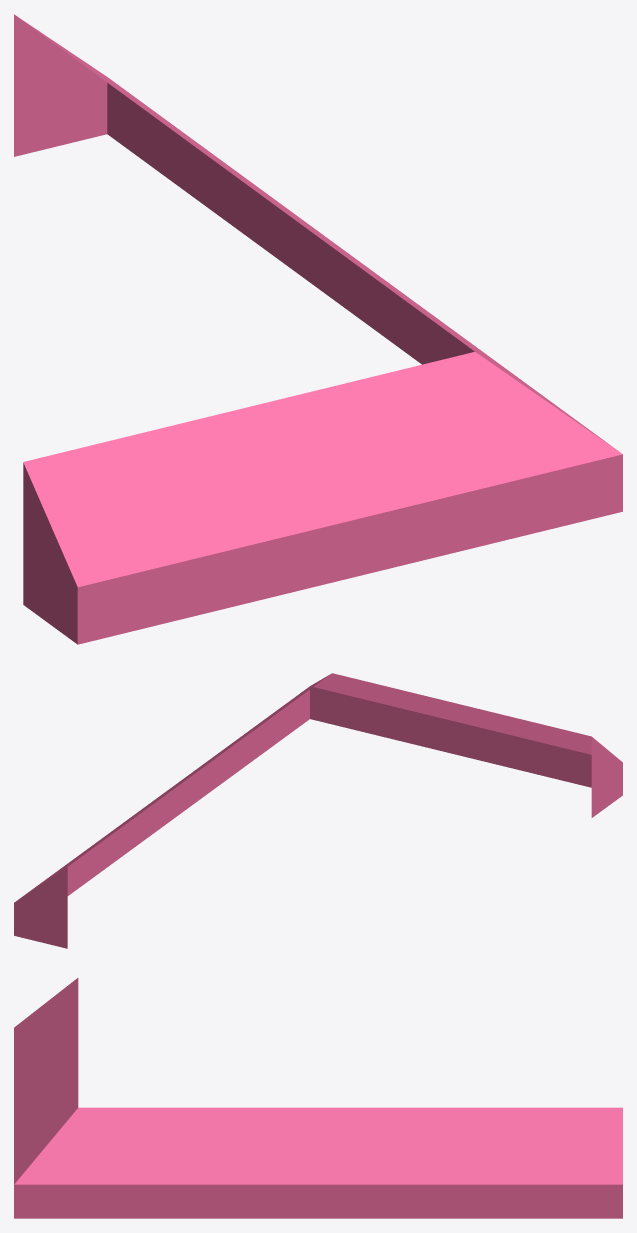
File: Town_Bld-sm_Obj_Awning-Corner.FBX
3 views of the same model, one above another, from view 1: azimuth 30°, elevation 25°; view 2: azimuth 150°, elevation 25°; view 3: azimuth 270°, elevation 25° (orthographic). The views are drawn at different scales.
Visible parts, largest first — view 1: Town_Bld-sm_Obj_Awning-Corner; view 2: Town_Bld-sm_Obj_Awning-Corner; view 3: Town_Bld-sm_Obj_Awning-Corner.
Part boxes in pixels (x1,y1,x2,y2): Town_Bld-sm_Obj_Awning-Corner: (14, 14, 622, 644); Town_Bld-sm_Obj_Awning-Corner: (14, 673, 622, 948); Town_Bld-sm_Obj_Awning-Corner: (14, 978, 622, 1218).
Bounding box in the file's own units: 337 × 84.27 × 552.
